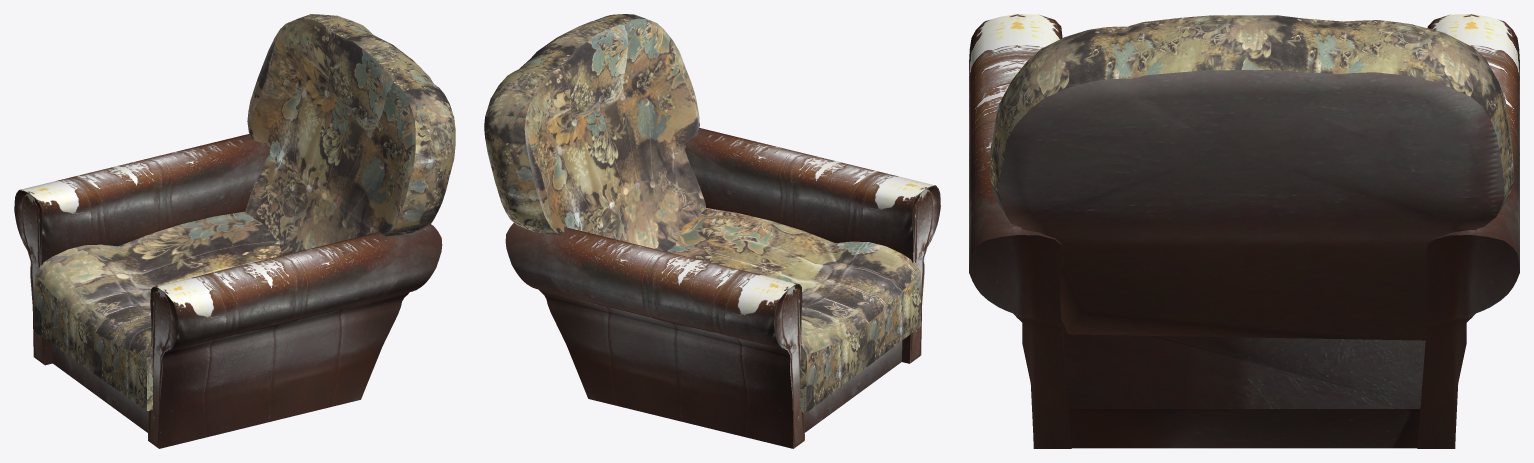
File: armchair.glb
3 views of the same model, side by side, from view 1: azimuth 30°, elevation 25°; view 2: azimuth 150°, elevation 25°; view 3: azimuth 270°, elevation 25° (orthographic). The views are drawn at different scales.
Visible parts, largest first — view 1: kreslo; view 2: kreslo; view 3: kreslo.
Part boxes in pixels (x1,y1,x2,y2): kreslo: (14, 14, 455, 448); kreslo: (484, 14, 940, 448); kreslo: (969, 14, 1519, 448).
Bounding box in the file's own units: 80.8 × 71.63 × 73.44.
5 materials, 5 textured.
